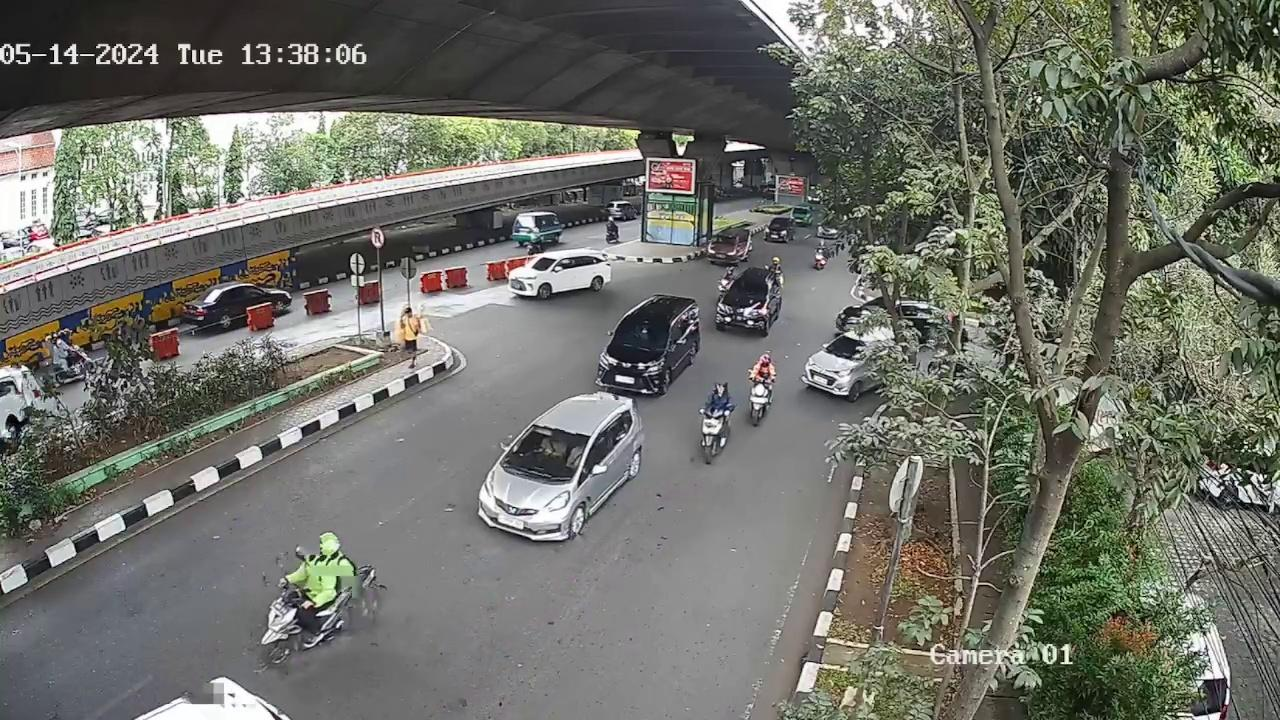pakai: (539, 438, 566, 460)
windshield: (508, 425, 590, 482), (607, 313, 673, 349)
